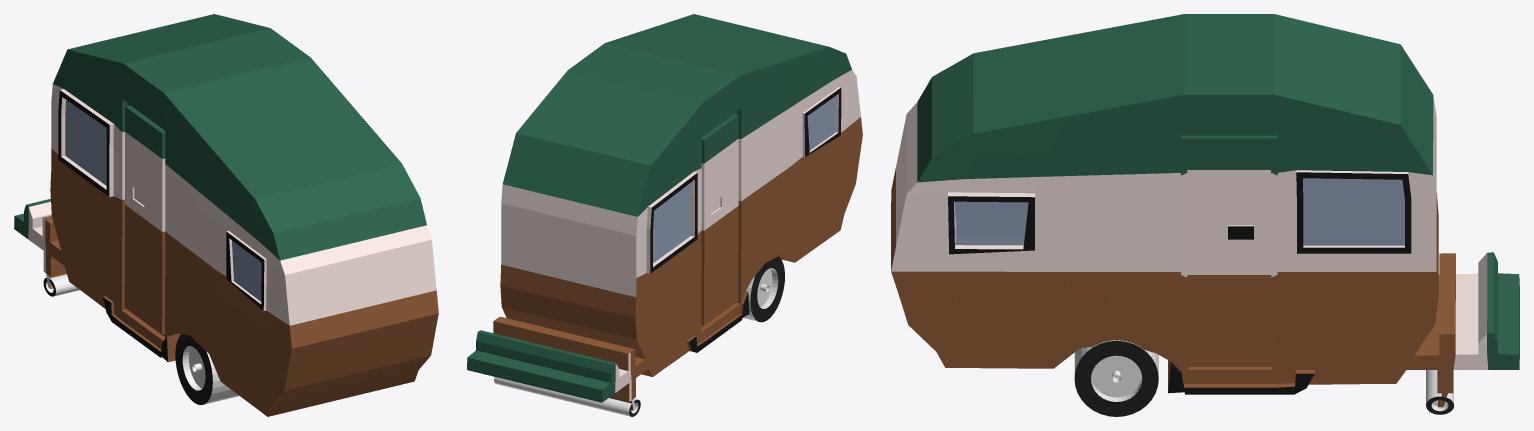
File: przyczepa.fbx
3 views of the same model, side by side, from view 1: azimuth 30°, elevation 25°; view 2: azimuth 150°, elevation 25°; view 3: azimuth 270°, elevation 25° (orthographic). The views are drawn at different scales.
Parts seen in each view (by area): view 1: Przyczepa, Circle, Circle.001; view 2: Przyczepa, Circle, Circle.001; view 3: Przyczepa, Circle, Circle.001.
Boxes of the visible parts, left/top/right/bottom form: Przyczepa: left=14, top=14, right=438, bottom=416; Circle: left=175, top=334, right=239, bottom=404; Circle.001: left=43, top=274, right=79, bottom=296; Przyczepa: left=467, top=14, right=862, bottom=410; Circle: left=743, top=256, right=784, bottom=322; Circle.001: left=494, top=377, right=640, bottom=416; Przyczepa: left=891, top=14, right=1519, bottom=407; Circle: left=1074, top=340, right=1158, bottom=416; Circle.001: left=1426, top=370, right=1453, bottom=414.
Bounding box in the file's own units: 261 × 453 × 800.
